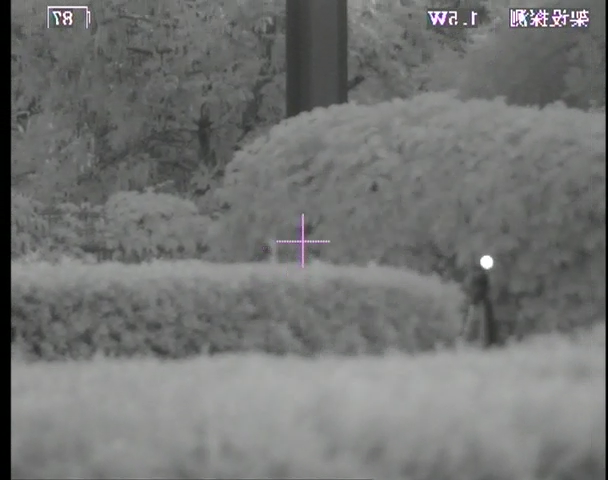my: (478, 253, 495, 270)
